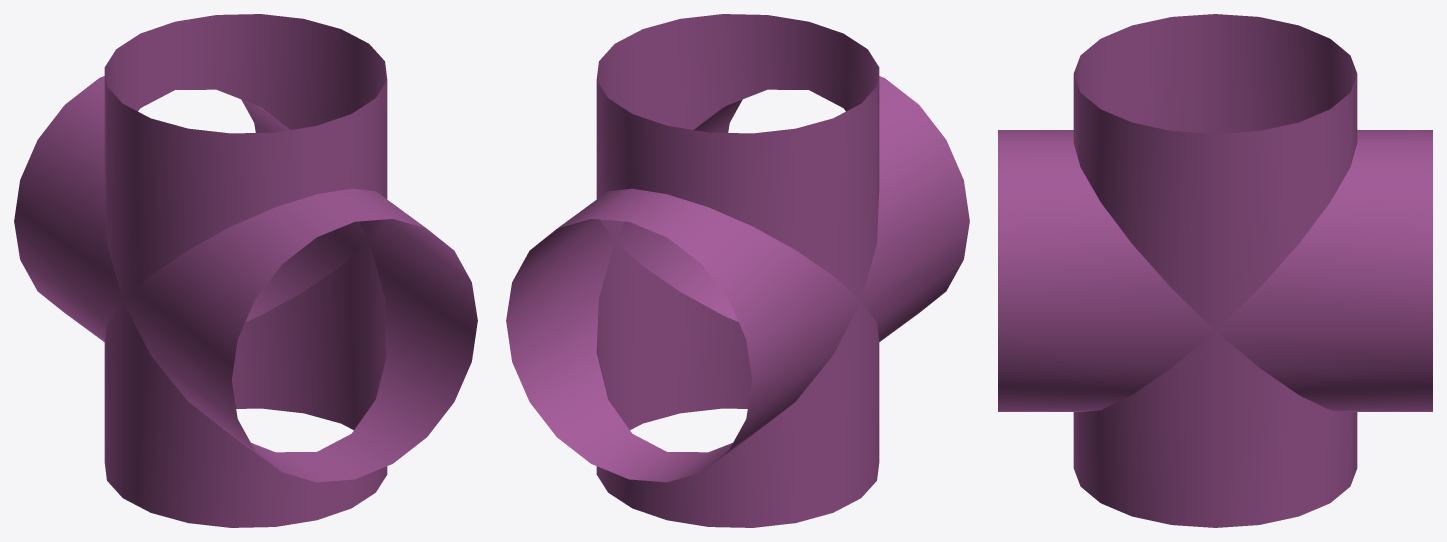
File: SM_Pipes_Vertical.fbx
3 views of the same model, side by side, from view 1: azimuth 30°, elevation 25°; view 2: azimuth 150°, elevation 25°; view 3: azimuth 270°, elevation 25° (orthographic).
Parts seen in each view (by area): view 1: SM_Pipes_Vertical; view 2: SM_Pipes_Vertical; view 3: SM_Pipes_Vertical.
Boxes of the visible parts, bbox=[...] form: SM_Pipes_Vertical: bbox=[14, 14, 477, 527]; SM_Pipes_Vertical: bbox=[506, 14, 969, 527]; SM_Pipes_Vertical: bbox=[998, 14, 1432, 527].
Size of the model in its own units: 327 by 500 by 500.
